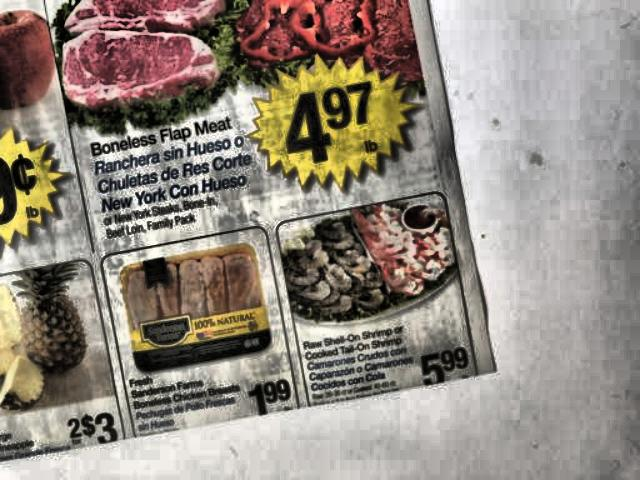Paper: (2, 0, 510, 456)
